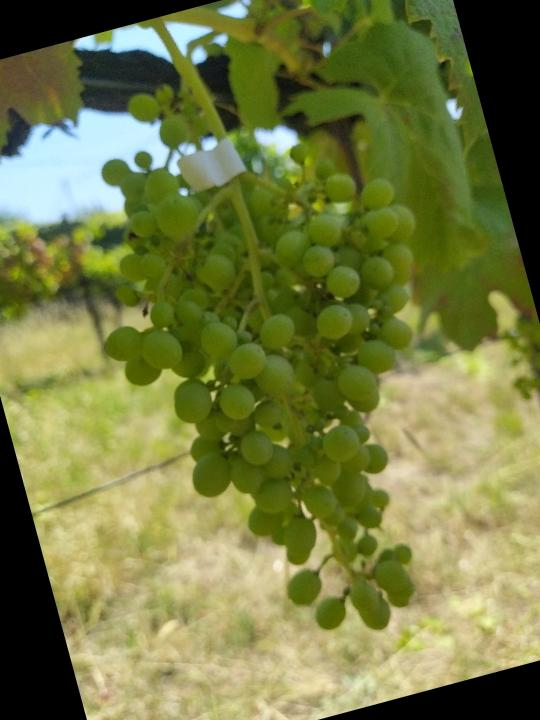grape: (50, 84, 522, 686)
